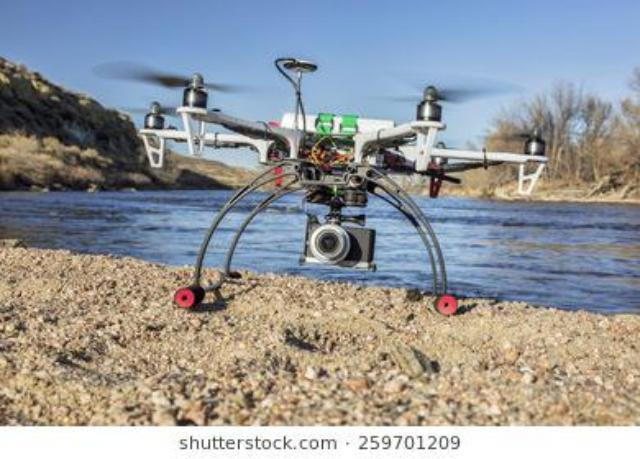drone: (0, 0, 640, 382)
